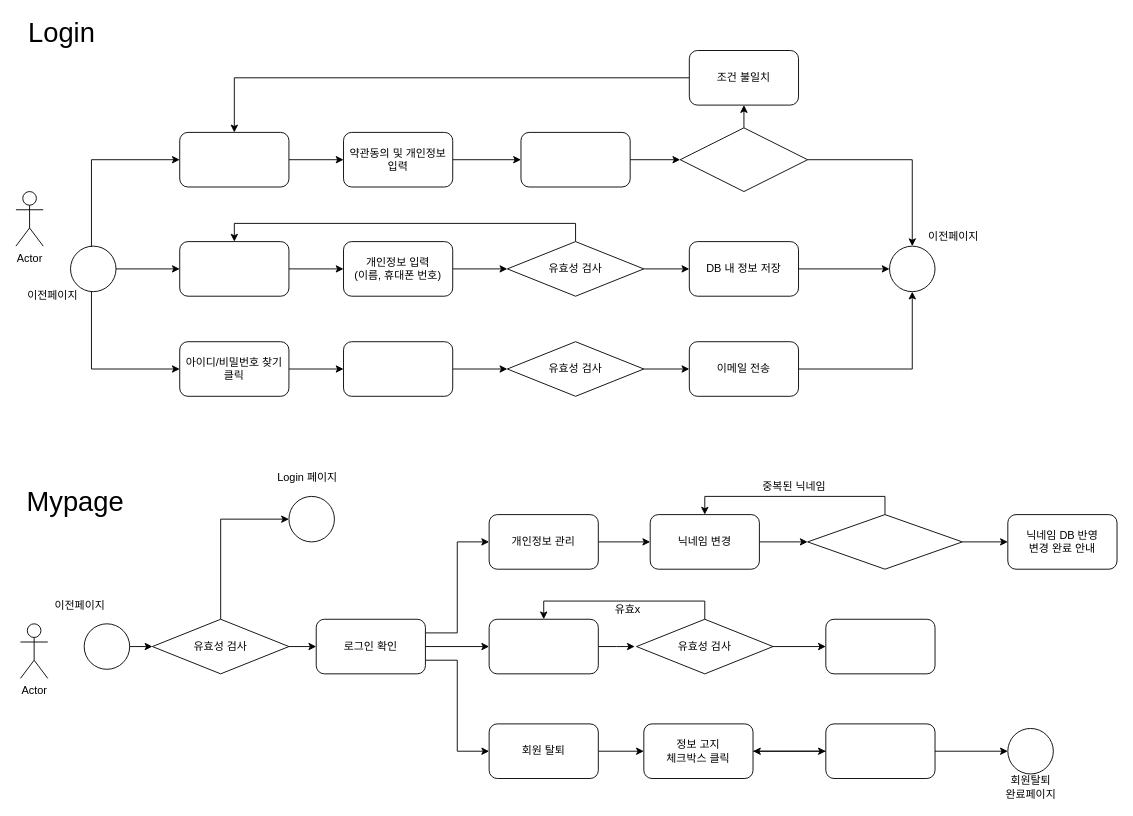
Image size: 1133x816. Some labels were removed from this diagram. The box of each missing label's shape, as (x1, y1, x2, y2) in pixels:
DB 반영 변경 완료 안내: (825, 618, 935, 674)
DB 반영 탈퇴 완료 안내: (825, 723, 935, 779)
DB 조건 확인: (679, 127, 808, 192)
개인정보 입력 (이름, 아이디, 힌트): (343, 341, 453, 396)
로그인 시도: (520, 131, 630, 187)
비밀번호 변경: (488, 618, 598, 674)
아이디/비밀번호 입력: (179, 131, 289, 187)
중복성 검사: (807, 514, 962, 569)
회원가입 클릭: (179, 241, 289, 296)
